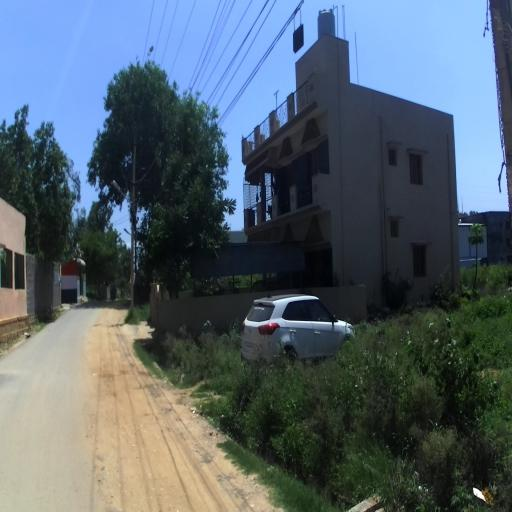street_light_0: (112, 180, 135, 223), (124, 228, 132, 235)
